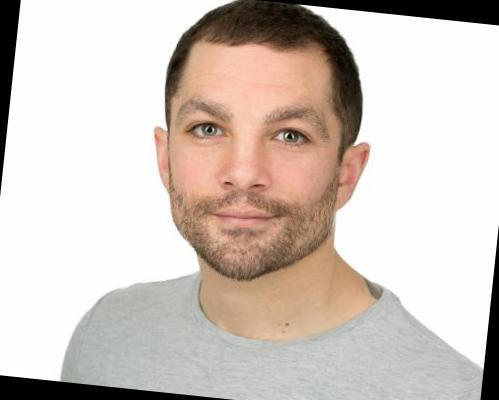Sober: (173, 48, 330, 253)
